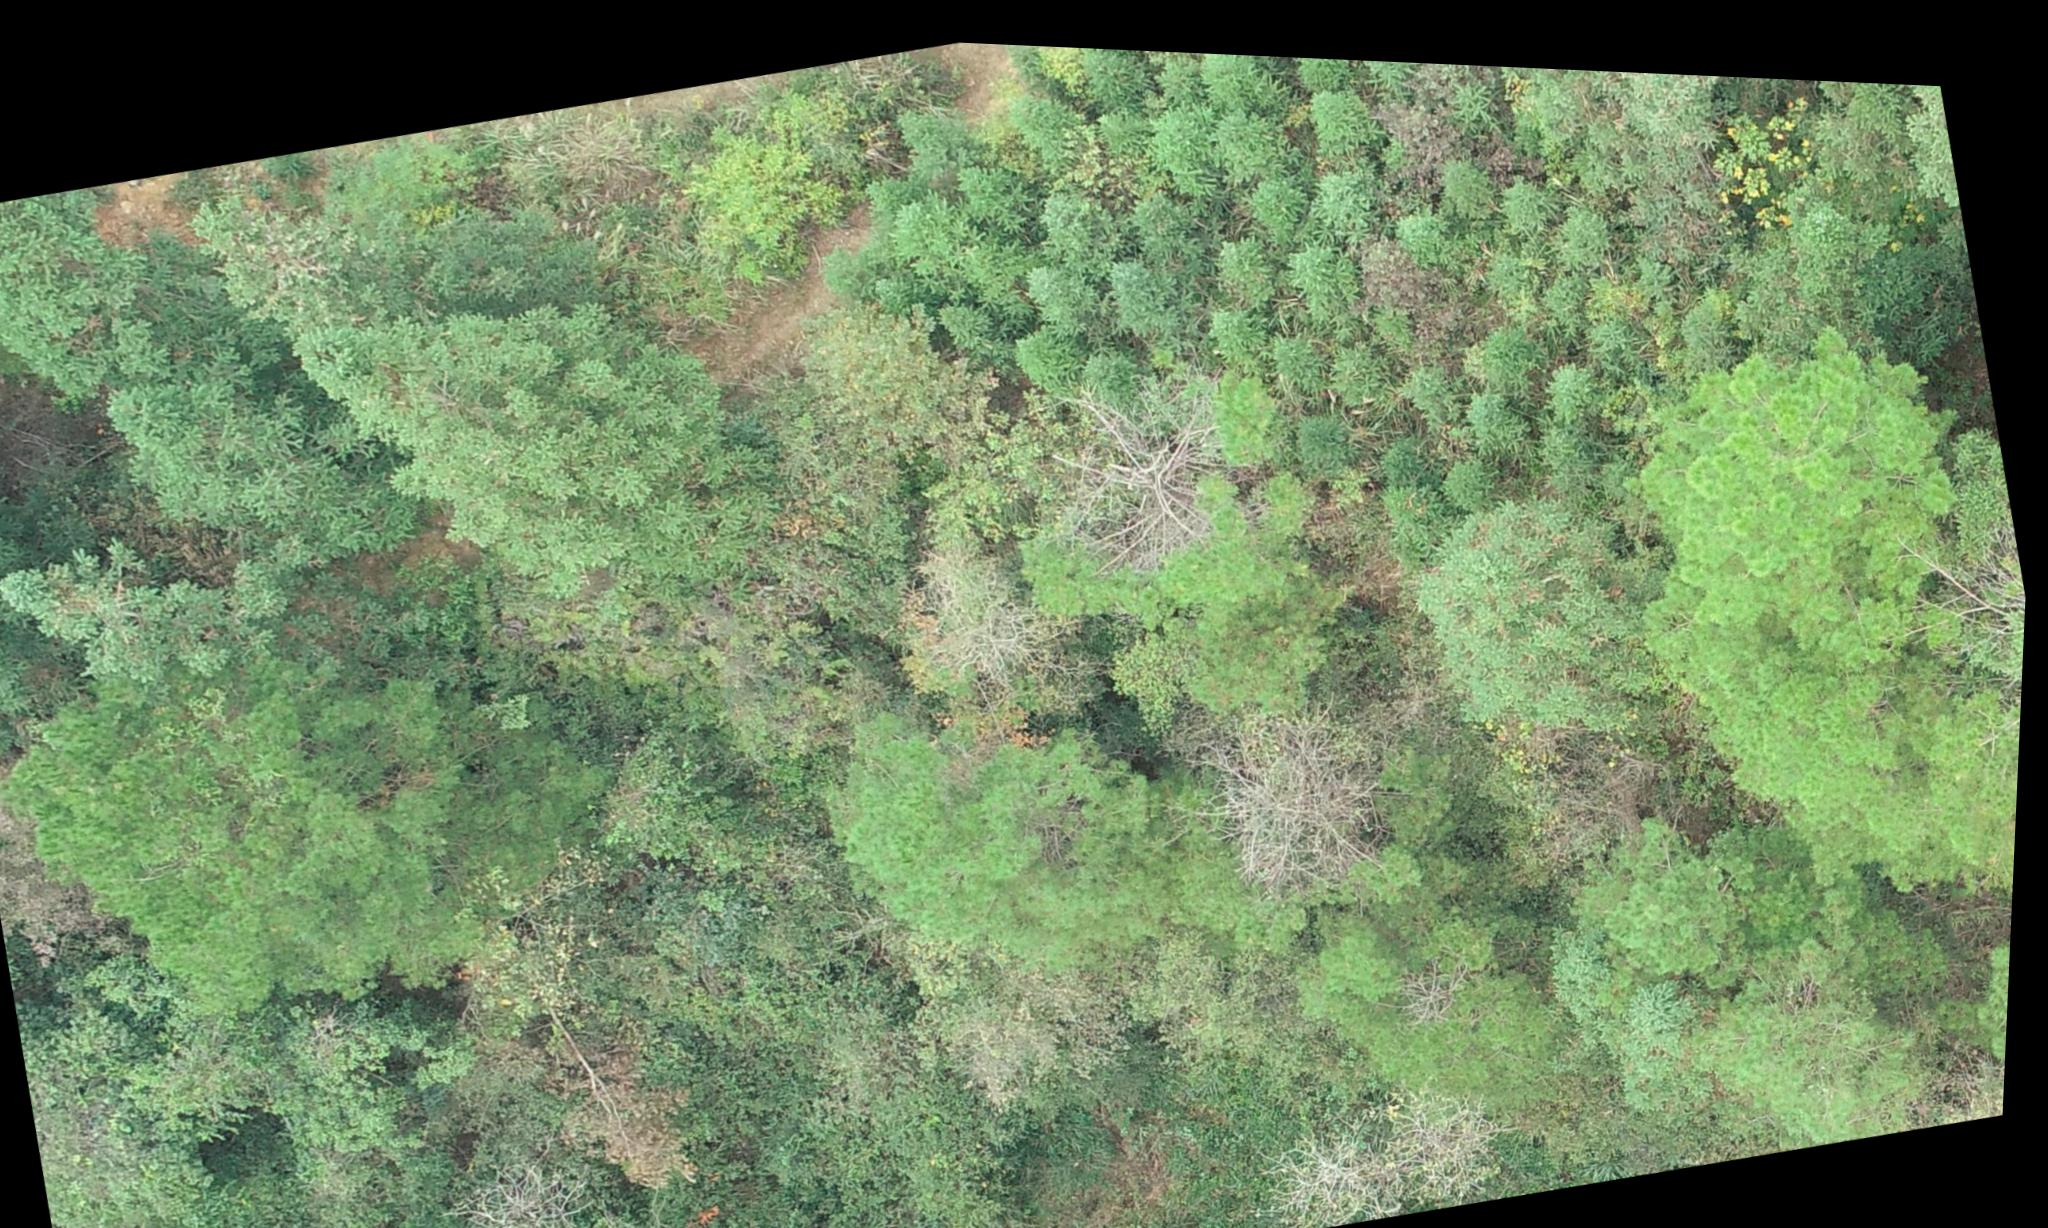dead: (1003, 339, 1301, 613)
